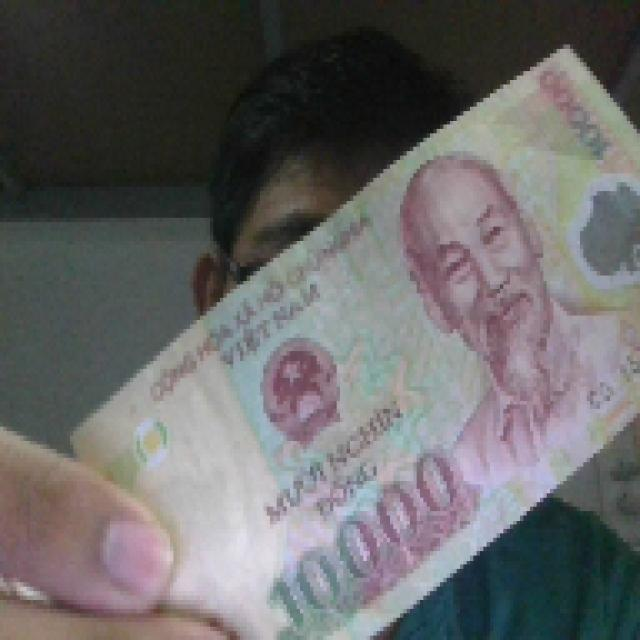10 000 VND: (63, 35, 637, 636)
